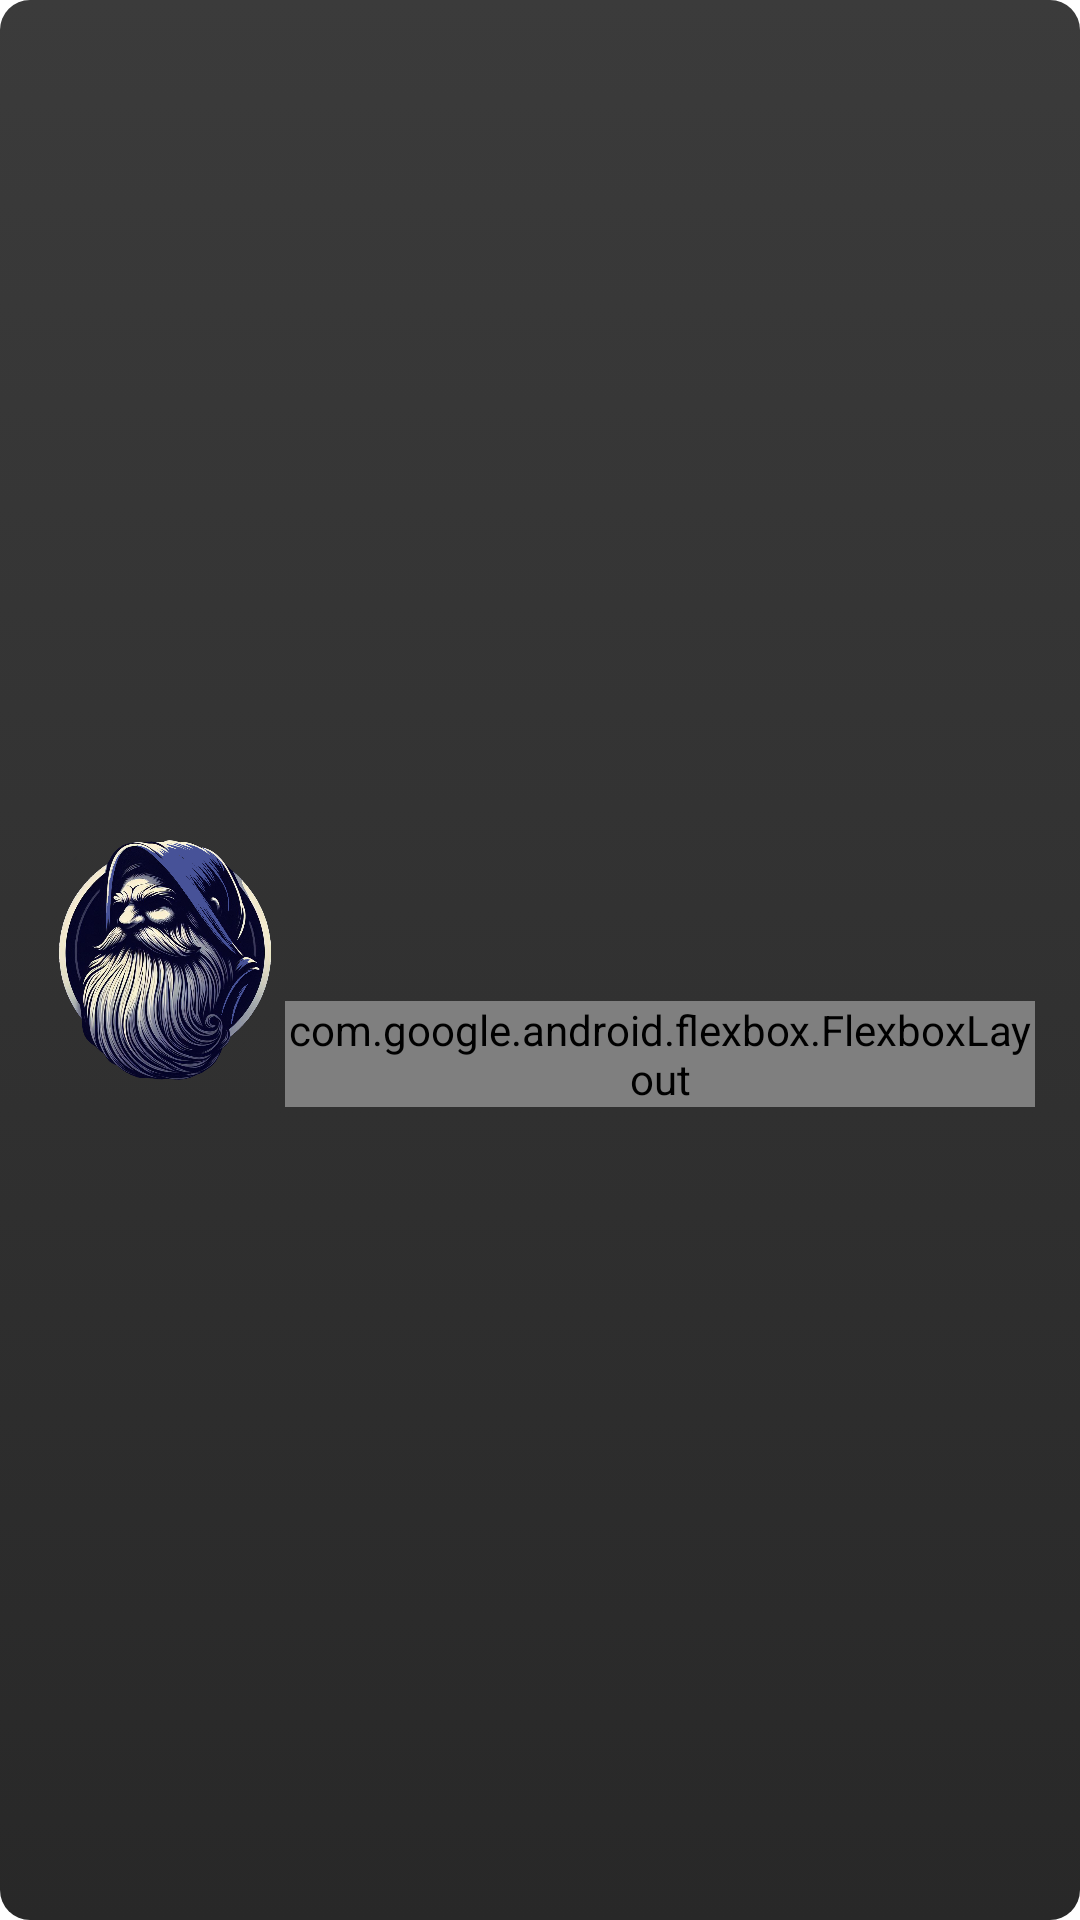

Where icons sit on this 1080px×1920px app screen, as (left=x1, top=y1, right=x2, bottom=y2):
nain: (left=59, top=840, right=271, bottom=1080)
